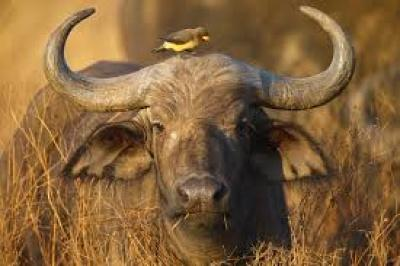buffalo: (0, 6, 353, 265)
